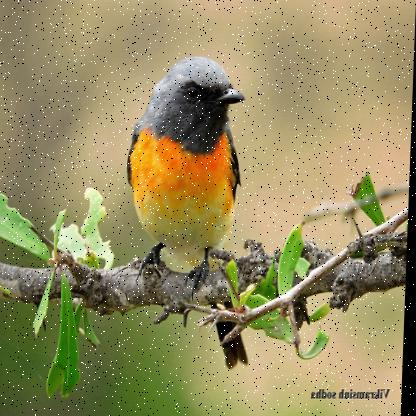Burung: (123, 56, 260, 371)
